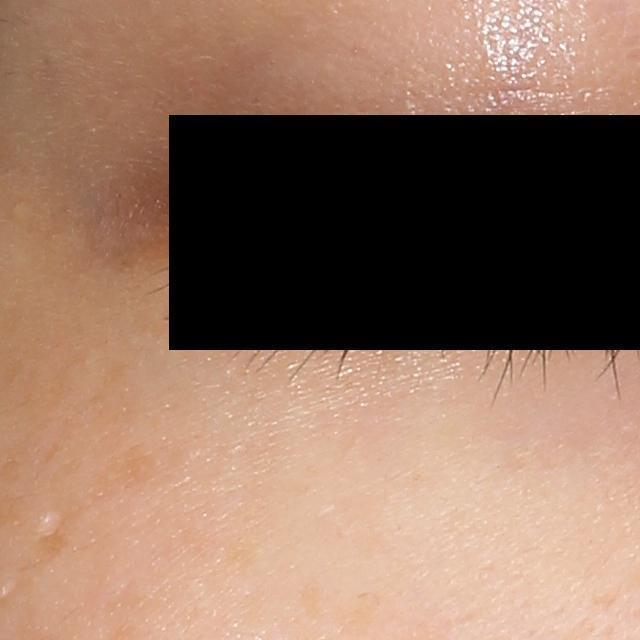melasma: (84, 447, 157, 508), (85, 365, 133, 431)
